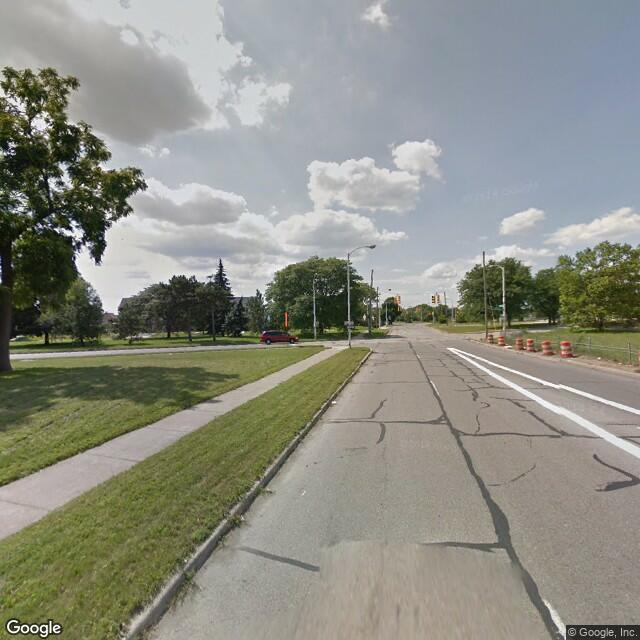litter: (326, 397, 340, 407), (503, 344, 515, 347), (595, 355, 602, 360), (240, 514, 246, 519), (168, 351, 173, 354)
